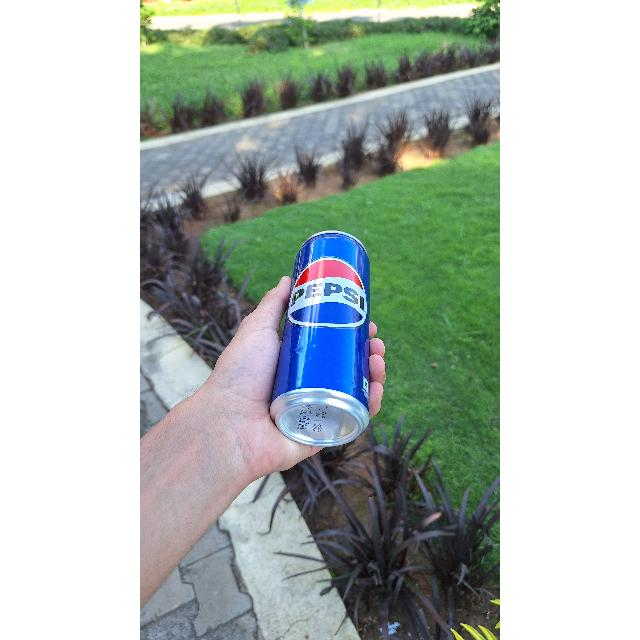Pepsi: (282, 234, 372, 436)
